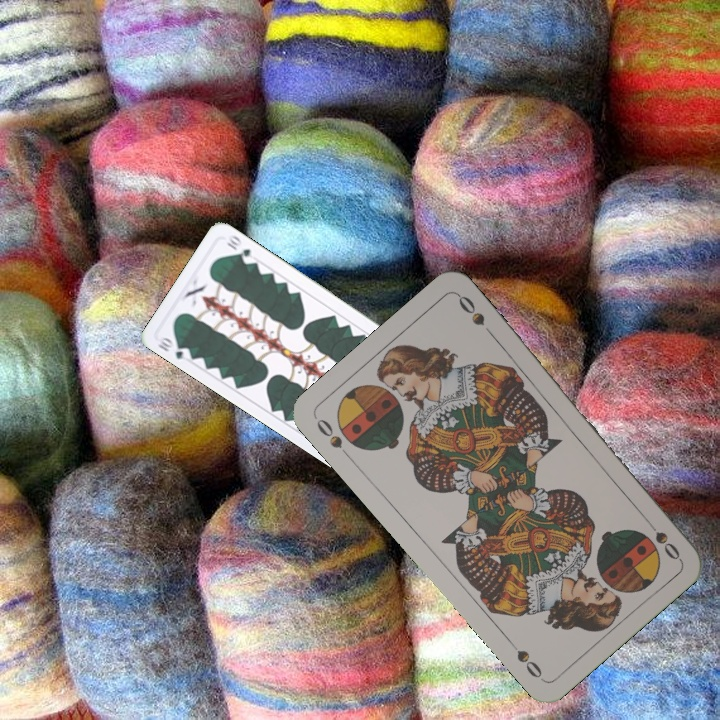G10: (154, 333, 193, 363)
SO: (640, 513, 683, 563), (312, 414, 354, 463)
